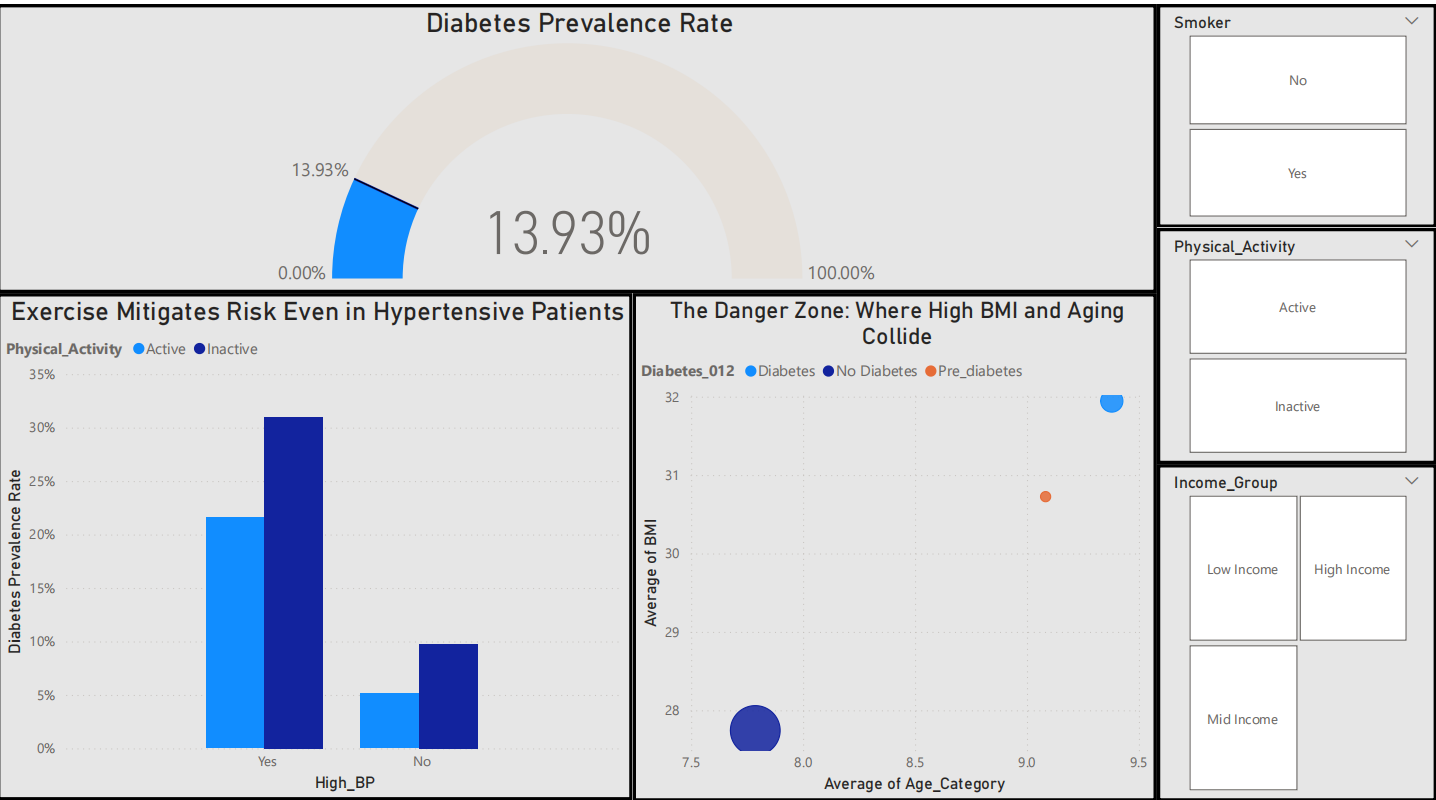

This screenshot's page, from the dashboard's own definition file:
{"tool":"powerbi","page":{"name":"Risk Analysis","canvas":[1280,720],"ordinal":1},"visuals":[{"type":"slicer","fields":{"Values":["Diabetes_Data.Smoker"]},"box":[1031.4,0,248.6,199.4],"z":0},{"type":"slicer","fields":{"Values":["Diabetes_Data.Physical_Activity"]},"box":[1031.4,199.4,248.6,210],"z":1000},{"type":"slicer","fields":{"Values":["Diabetes_Data.Income_Group"]},"box":[1031.2,409.2,248.8,299.5],"z":2000},{"type":"gauge","title":"Diabetes Prevalence Rate","fields":{"Y":["Diabetes_Data.Diabetes Prevalence Rate"],"TargetValue":["Diabetes_Data.National Average Rate"]},"box":[0,0,1031.4,256.5],"z":3000},{"type":"clusteredColumnChart","title":"Exercise Mitigates Risk Even in Hypertensive Patients","fields":{"Category":["Diabetes_Data.High_BP"],"Series":["Diabetes_Data.Physical_Activity"],"Y":["Diabetes_Data.Diabetes Prevalence Rate"]},"box":[0,256.5,564.9,451.9],"z":4000},{"type":"scatterChart","title":"The Danger Zone: Where High BMI and Aging Collide","fields":{"X":["Avg(Diabetes_Data.Age_Category)"],"Y":["Avg(Diabetes_Data.BMI)"],"Series":["Diabetes_Data.Diabetes_012"],"Size":["Diabetes_Data.Total_Respondents"]},"box":[564.7,257,466.5,451.8],"z":5000}]}

Visuals, with their boxes in screenshot pixels (x1, y1, x2, y2), scaled from the page's 1280x720 canvas onto the 1436x800 screenshot:
slicer - Diabetes_Data.Smoker: select_region(1157, 0, 1435, 222)
slicer - Diabetes_Data.Physical_Activity: select_region(1157, 222, 1435, 455)
slicer - Diabetes_Data.Income_Group: select_region(1157, 455, 1435, 787)
"Diabetes Prevalence Rate" gauge: select_region(0, 0, 1157, 285)
"Exercise Mitigates Risk Even in Hypertensive Patients" clusteredColumnChart: select_region(0, 285, 634, 787)
"The Danger Zone: Where High BMI and Aging Collide" scatterChart: select_region(634, 286, 1157, 788)
